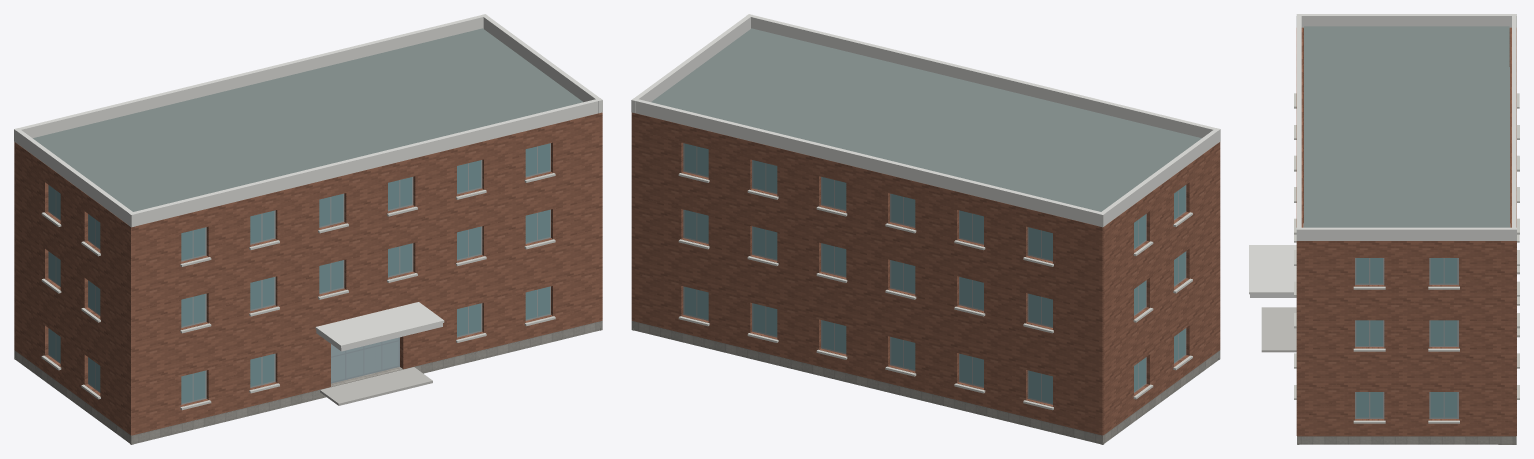
3 renders of one model, left to right at view 1: azimuth 30°, elevation 25°; view 2: azimuth 150°, elevation 25°; view 3: azimuth 270°, elevation 25°, orthographic. The views are drawn at different scales.
Visible parts, largest first — view 1: elim-annex__wall, elim-annex__roof, elim-annex__cap, elim-annex__glass, elim-annex__plinth, elim-annex__frame, elim-annex__band, elim-annex__threshold-main, elim-annex__doorglass, elim-annex__foundation; view 2: elim-annex__wall, elim-annex__roof, elim-annex__cap, elim-annex__glass, elim-annex__plinth, elim-annex__frame, elim-annex__band, elim-annex__foundation; view 3: elim-annex__roof, elim-annex__wall, elim-annex__cap, elim-annex__glass, elim-annex__band, elim-annex__threshold-main, elim-annex__plinth, elim-annex__frame, elim-annex__foundation.
Part boxes in pixels (x1=…): elim-annex__wall: x1=14, y1=112, x2=602, y2=435; elim-annex__roof: x1=33, y1=28, x2=583, y2=211; elim-annex__cap: x1=14, y1=14, x2=602, y2=347; elim-annex__glass: x1=49, y1=143, x2=549, y2=403; elim-annex__plinth: x1=14, y1=321, x2=602, y2=442; elim-annex__frame: x1=48, y1=143, x2=550, y2=404; elim-annex__band: x1=41, y1=173, x2=555, y2=410; elim-annex__threshold-main: x1=320, y1=367, x2=432, y2=405; elim-annex__doorglass: x1=331, y1=337, x2=398, y2=381; elim-annex__foundation: x1=14, y1=328, x2=602, y2=444; elim-annex__wall: x1=631, y1=112, x2=1220, y2=435; elim-annex__roof: x1=651, y1=28, x2=1201, y2=211; elim-annex__cap: x1=631, y1=14, x2=1220, y2=227; elim-annex__glass: x1=684, y1=143, x2=1185, y2=403; elim-annex__plinth: x1=631, y1=321, x2=1220, y2=442; elim-annex__frame: x1=683, y1=143, x2=1186, y2=404; elim-annex__band: x1=678, y1=173, x2=1192, y2=410; elim-annex__foundation: x1=631, y1=321, x2=1220, y2=444; elim-annex__roof: x1=1304, y1=26, x2=1509, y2=227; elim-annex__wall: x1=1296, y1=27, x2=1516, y2=436; elim-annex__cap: x1=1249, y1=14, x2=1516, y2=294; elim-annex__glass: x1=1356, y1=258, x2=1457, y2=417; elim-annex__band: x1=1294, y1=93, x2=1519, y2=423; elim-annex__threshold-main: x1=1261, y1=307, x2=1296, y2=352; elim-annex__plinth: x1=1297, y1=223, x2=1516, y2=442; elim-annex__frame: x1=1355, y1=258, x2=1458, y2=418; elim-annex__foundation: x1=1297, y1=436, x2=1516, y2=444.
Size of the model in its own units: 26.32 by 12.13 by 13.82.
12 materials, 4 textured.
